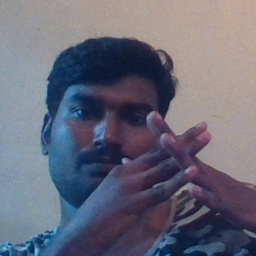W: (116, 100, 243, 227)
